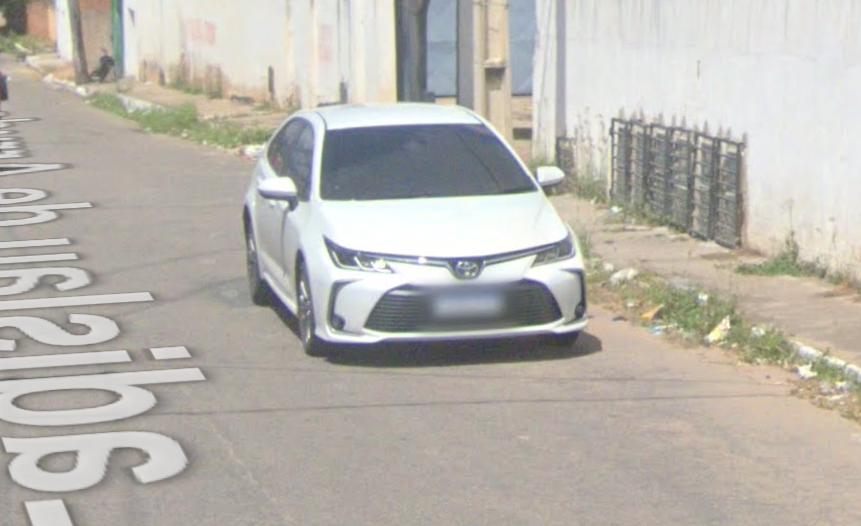car: (236, 97, 591, 363)
